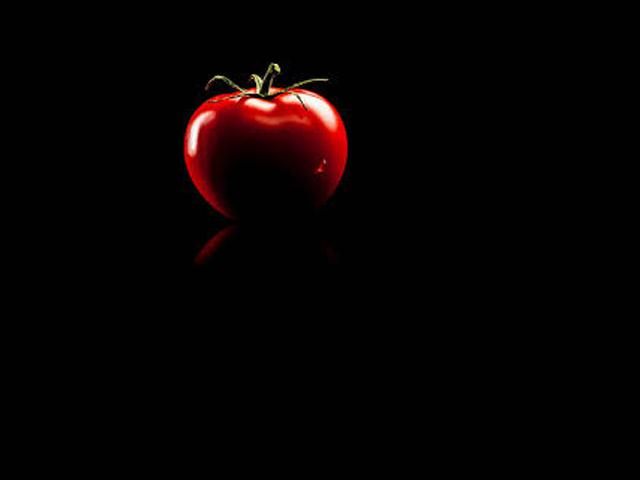tomato: (184, 83, 348, 215)
